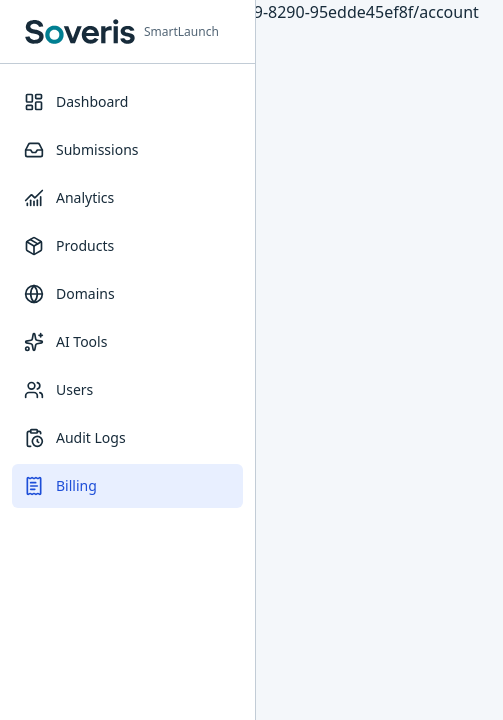
Test: Billing sidebar Client context › keeps the selected Client when returning to Account from account
Click the link "Billing".
click(128, 486)  # box x1=12 y1=464 x2=243 y2=508
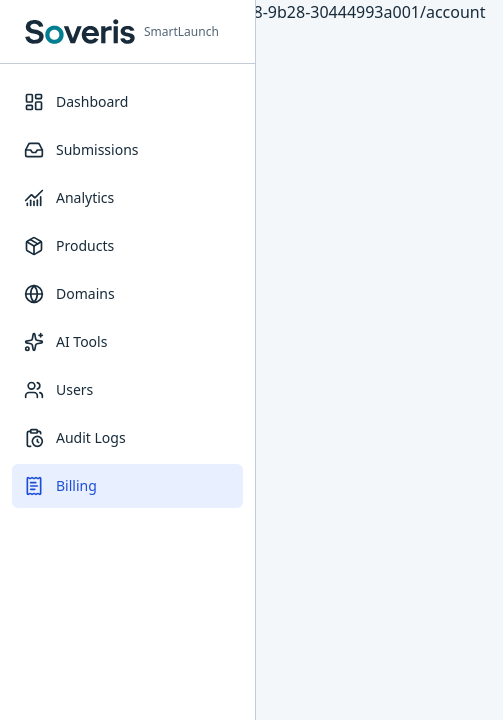
Expected: the text with test id "current-route" no longer shows "0149620b-af5c-47c9-8290-95edde45ef8f", x1=0 y1=1 x2=486 y2=23
